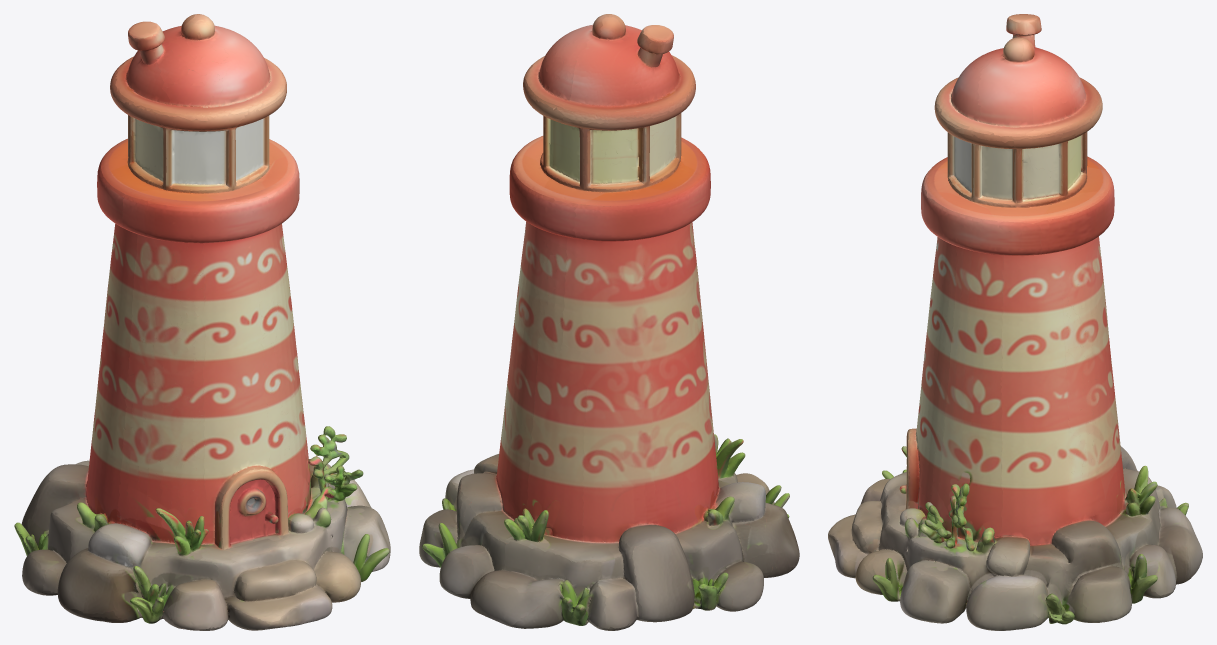
The model's file is bld_lighthouse.glb.
3 views of the same model, side by side, from view 1: azimuth 30°, elevation 25°; view 2: azimuth 150°, elevation 25°; view 3: azimuth 270°, elevation 25° (orthographic). The views are drawn at different scales.
Parts seen in each view (by area): view 1: geometry_0; view 2: geometry_0; view 3: geometry_0.
Boxes of the visible parts, x1,y1,x2,y2 form: geometry_0: [14, 14, 390, 630]; geometry_0: [419, 14, 799, 630]; geometry_0: [828, 14, 1202, 630].
Bounding box in the file's own units: 0.1984 × 0.32 × 0.2076.
1 material, 1 textured.
